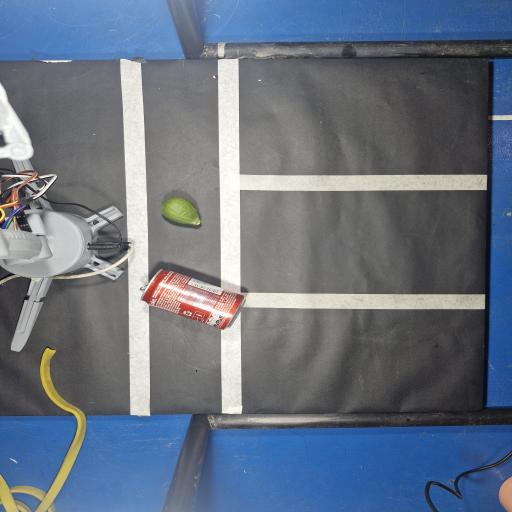higo: (161, 197, 200, 225)
lata: (141, 270, 243, 329)
